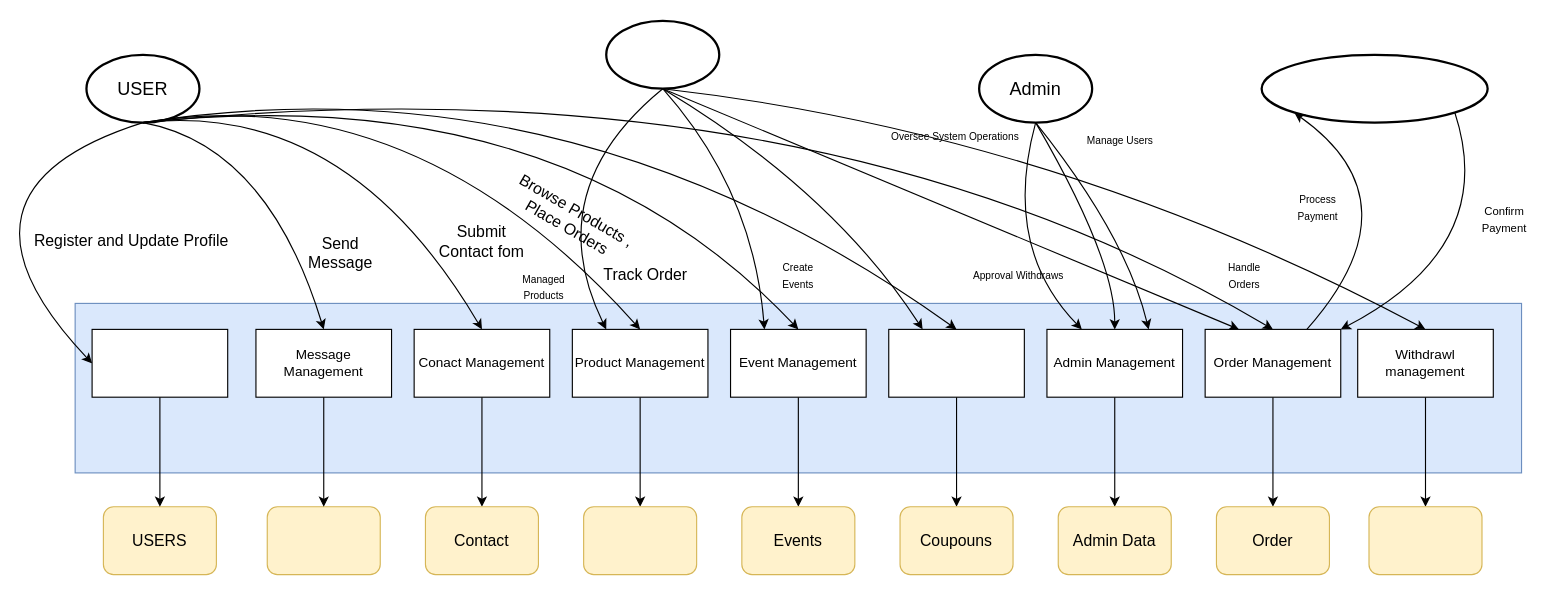
This 1564x594 diagram has some shape labels left out. Each missing label, with the centre of its shape:
Coupoun Management: pixel 956 362
Messages: pixel 323 540
Payment Gatewaty: pixel 1374 88
Products: pixel 640 540
Seller: pixel 662 54
User management: pixel 159 362
Withdraws: pixel 1425 540
